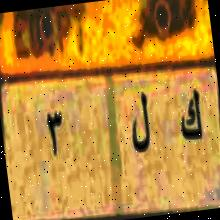3: (44, 109, 68, 165)
kaaf: (174, 88, 207, 152)
laam: (125, 88, 155, 160)
